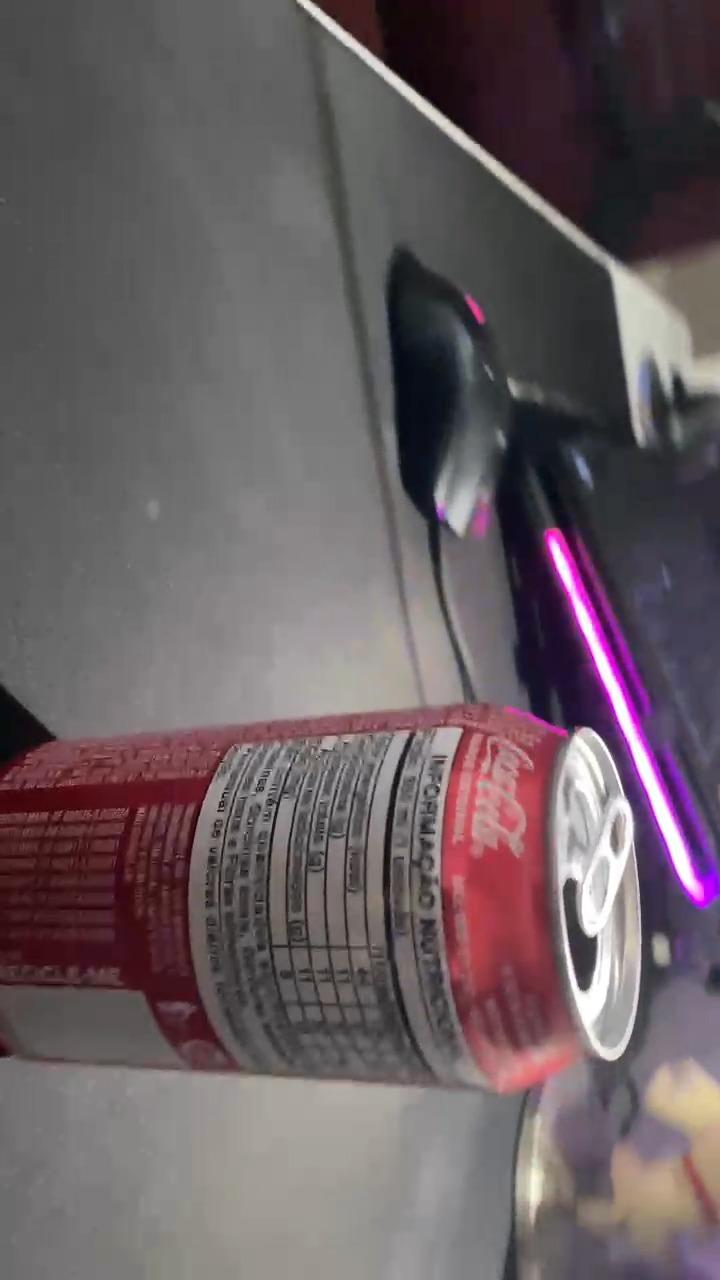coke: (2, 704, 639, 1095)
